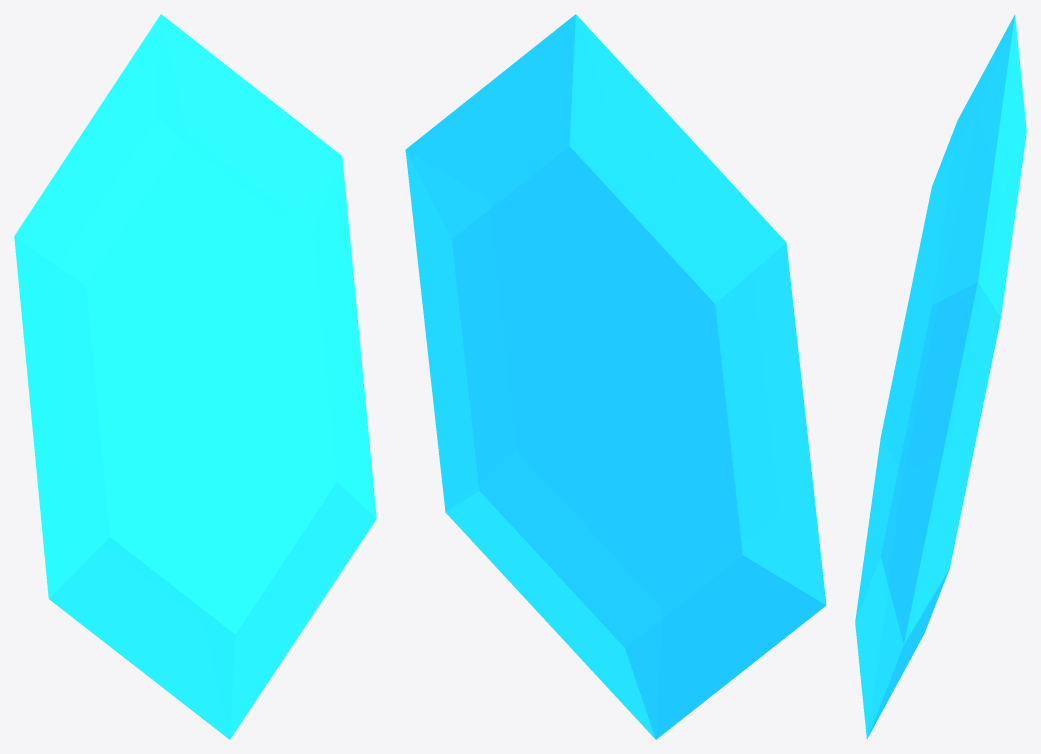
Rendered from ruppee.fbx.
3 renders of one model, left to right at view 1: azimuth 30°, elevation 25°; view 2: azimuth 150°, elevation 25°; view 3: azimuth 270°, elevation 25°, orthographic. The views are drawn at different scales.
Parts seen in each view (by area): view 1: Ruppee; view 2: Ruppee; view 3: Ruppee.
Boxes of the visible parts, <box> form: Ruppee: <box>14,14,376,739</box>; Ruppee: <box>405,14,826,739</box>; Ruppee: <box>855,14,1026,739</box>.
Bounding box in the file's own units: 289 × 569 × 122.
